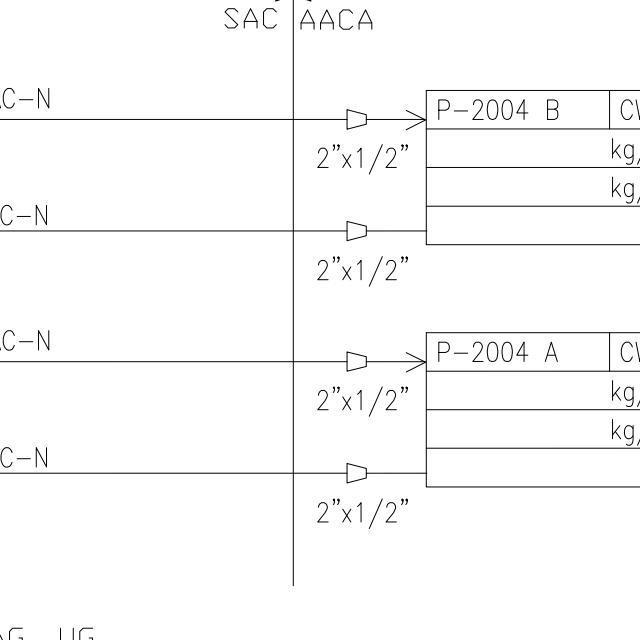SP: (342, 458, 370, 486), (342, 217, 370, 244), (342, 107, 371, 133), (342, 350, 370, 374)
